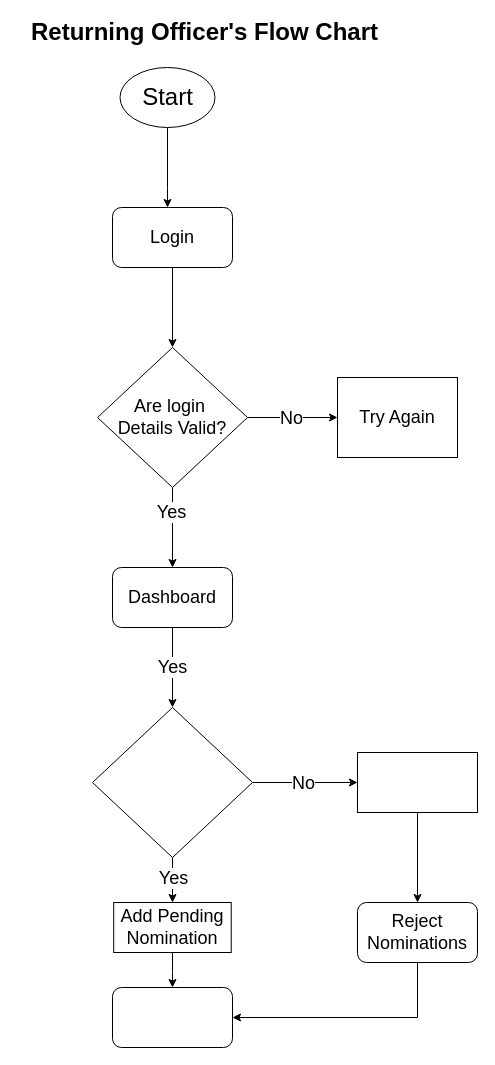
The diagram is 495 pixels wide and 1065 high, and some of its shapes have lost their labels. Each missing label, with the box of its shape:
Are Submitted Nominations Complete? Approve: (92, 706, 252, 858)
End: (112, 986, 232, 1048)
Returning offcer action Required: (356, 752, 478, 812)
